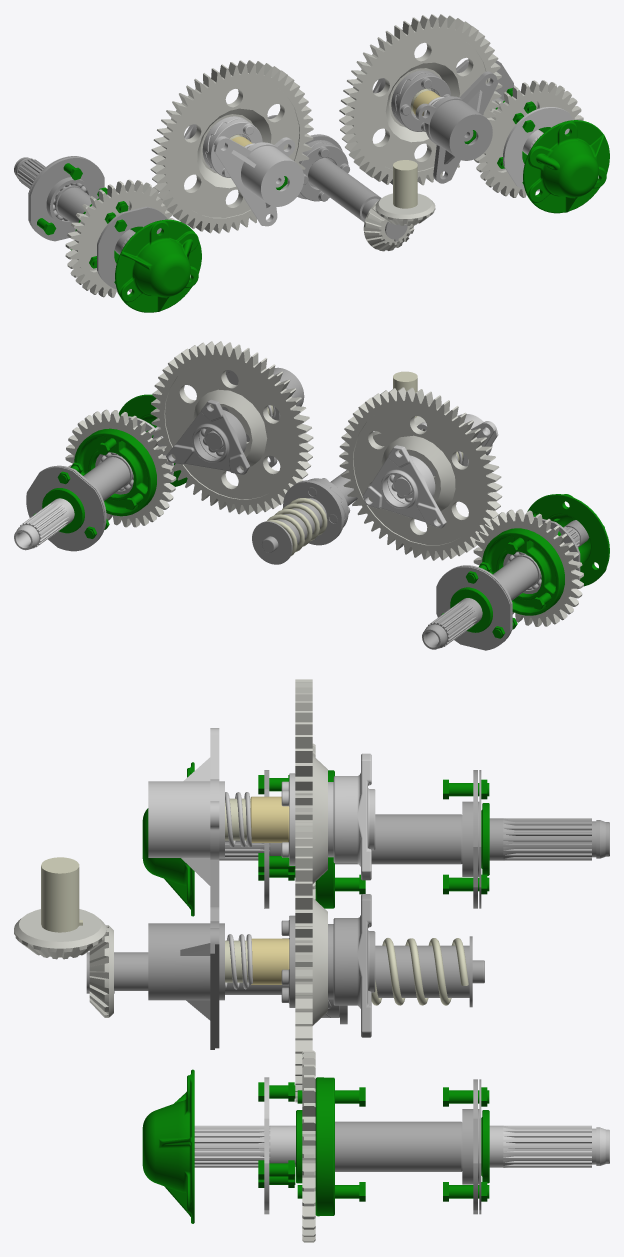
File: GearboxAssy.gltf
The picture shows the model from 3 angles, top to bottom: view 1: azimuth 30°, elevation 25°; view 2: azimuth 150°, elevation 25°; view 3: azimuth 270°, elevation 25°; orthographic projection. The views are drawn at different scales.
Visible parts, largest first — view 1: body_10 (×2), body_19 (×2), body_25 (×2), body_24 (×3), object 76, body_6, body_16 (×2), body_12, object 31, object 75, body_15, body_18 (+5 smaller); view 2: body_10 (×2), body_25 (×2), body_26 (×2), body_28 (×2), body_19 (×2), body_4, object 78, body_27 (×2), object 8, body_12, body_14, body_30 (+5 smaller); view 3: body_27 (×2), body_10 (×2), body_30, body_6, object 76, body_19 (×2), object 8, body_16 (×2), object 78, body_4, body_26 (×2), body_8 (×2) (+11 smaller).
Boxes of the visible parts, box(x1,y1,x2,y2) form: body_10 (×2): box(150, 14, 502, 233); body_19 (×2): box(115, 120, 609, 312); body_25 (×2): box(65, 80, 583, 297); body_24 (×3): box(29, 60, 514, 289); object 76: box(415, 71, 498, 183); body_6: box(214, 136, 304, 226); body_16 (×2): box(363, 193, 435, 251); body_12: box(267, 115, 381, 222); object 31: box(503, 107, 573, 191); object 75: box(395, 73, 451, 131); body_15: box(299, 142, 349, 201); body_18: box(393, 160, 417, 208); body_10 (×2): box(150, 341, 502, 560); body_25 (×2): box(65, 409, 583, 626); body_26 (×2): box(74, 428, 564, 615); body_28 (×2): box(26, 467, 510, 650); body_19 (×2): box(119, 394, 609, 586); body_4: box(362, 445, 446, 528); object 78: box(166, 399, 249, 474); body_27 (×2): box(83, 457, 537, 600); object 8: box(422, 520, 589, 649); body_12: box(252, 470, 357, 564); body_14: box(283, 480, 344, 545); body_30: box(14, 426, 160, 550); body_27 (×2): box(335, 814, 462, 1171); body_10 (×2): box(295, 679, 327, 1102); body_30: box(194, 1125, 609, 1167); body_6: box(148, 728, 224, 905); object 76: box(148, 906, 224, 1049); body_19 (×2): box(142, 762, 194, 1223); object 8: box(219, 818, 609, 860); body_16 (×2): box(14, 909, 113, 1017); object 78: box(333, 894, 375, 1037); body_4: box(333, 753, 375, 880); body_26 (×2): box(315, 770, 334, 1216); body_8 (×2): box(250, 796, 289, 984).
Size of the model in its own units: 29.77 by 11.31 by 19.31.
